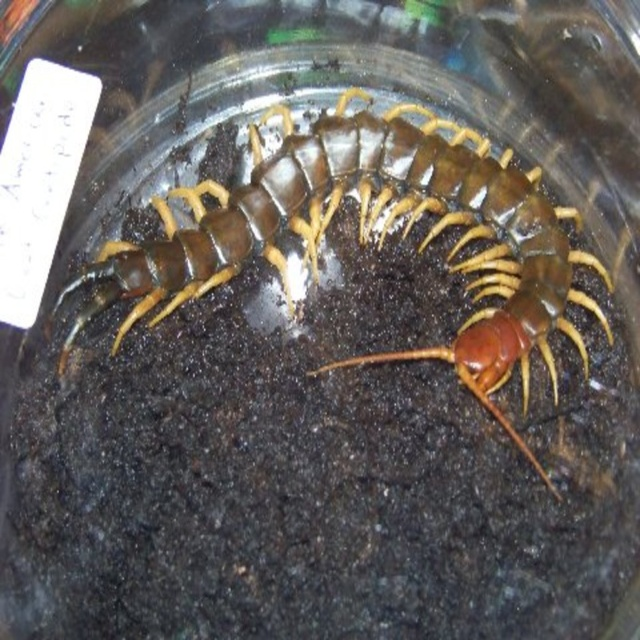Centipede: (49, 88, 615, 507)
